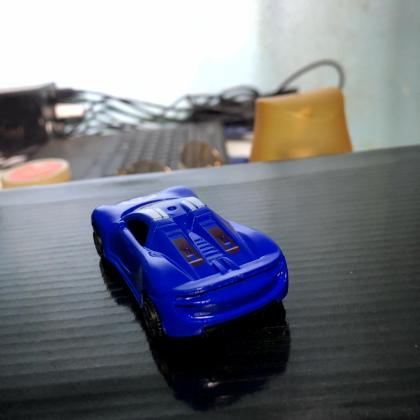Car: (91, 188, 289, 343)
